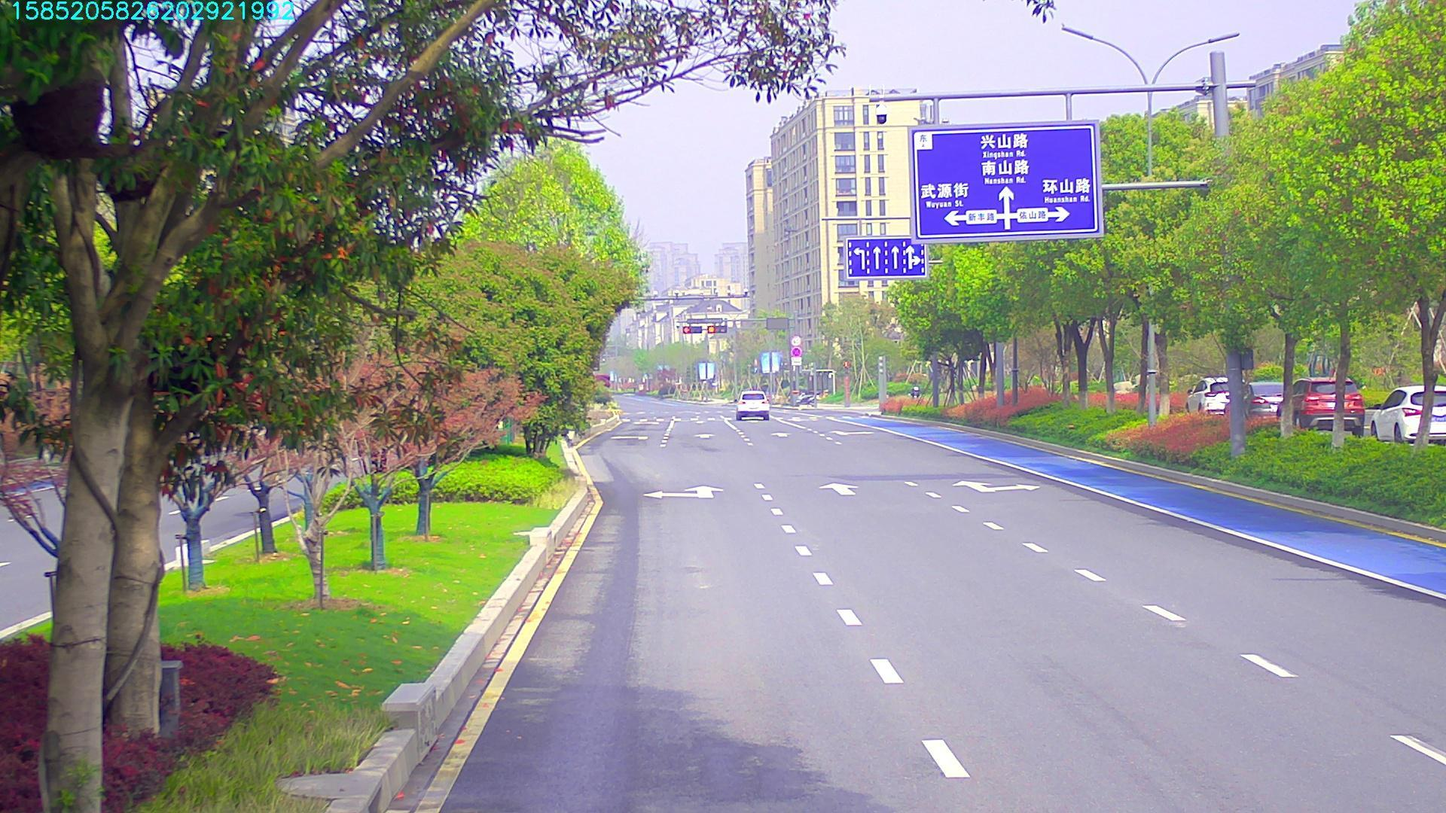red: (678, 320, 704, 335), (707, 322, 727, 334)
